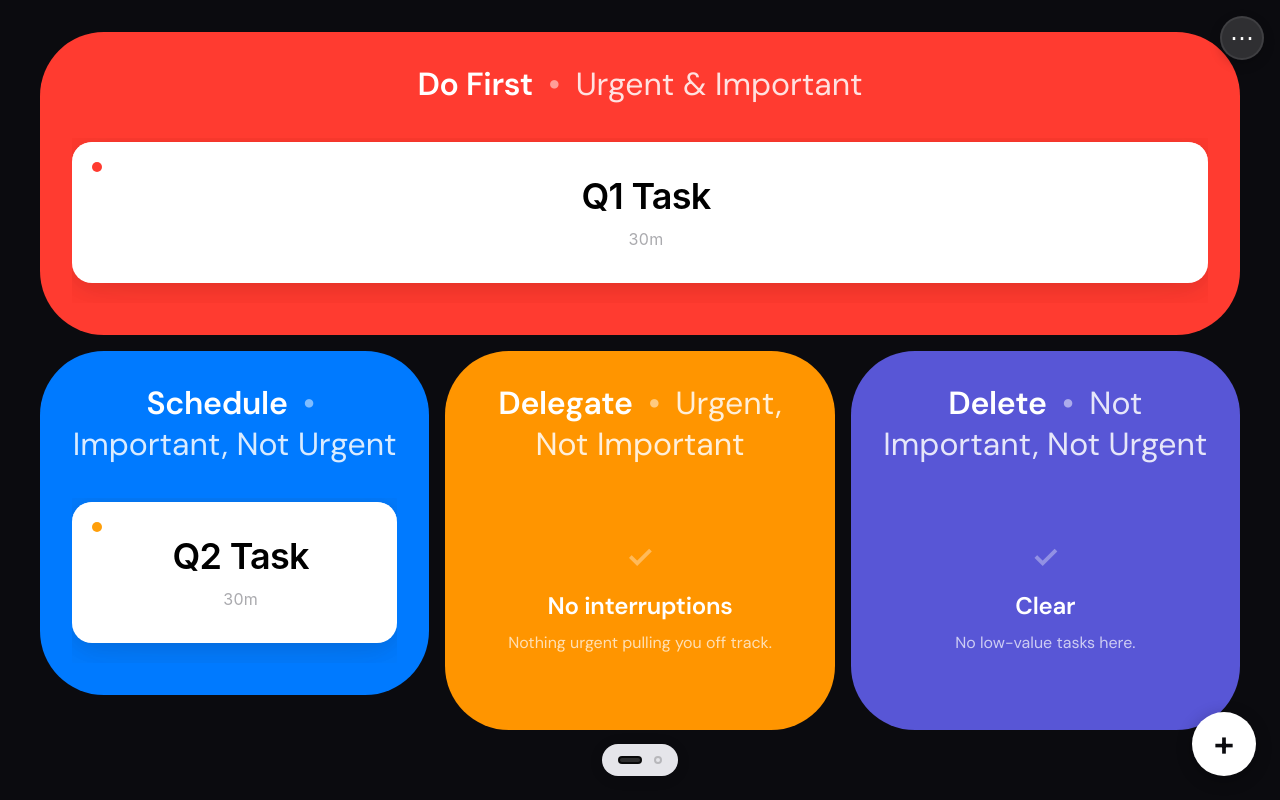
Scenario: Right Now View › displays quadrant indicator for each task
Click the button with test id "page-dot-rightNow": [658, 760] box [654, 756, 662, 764]
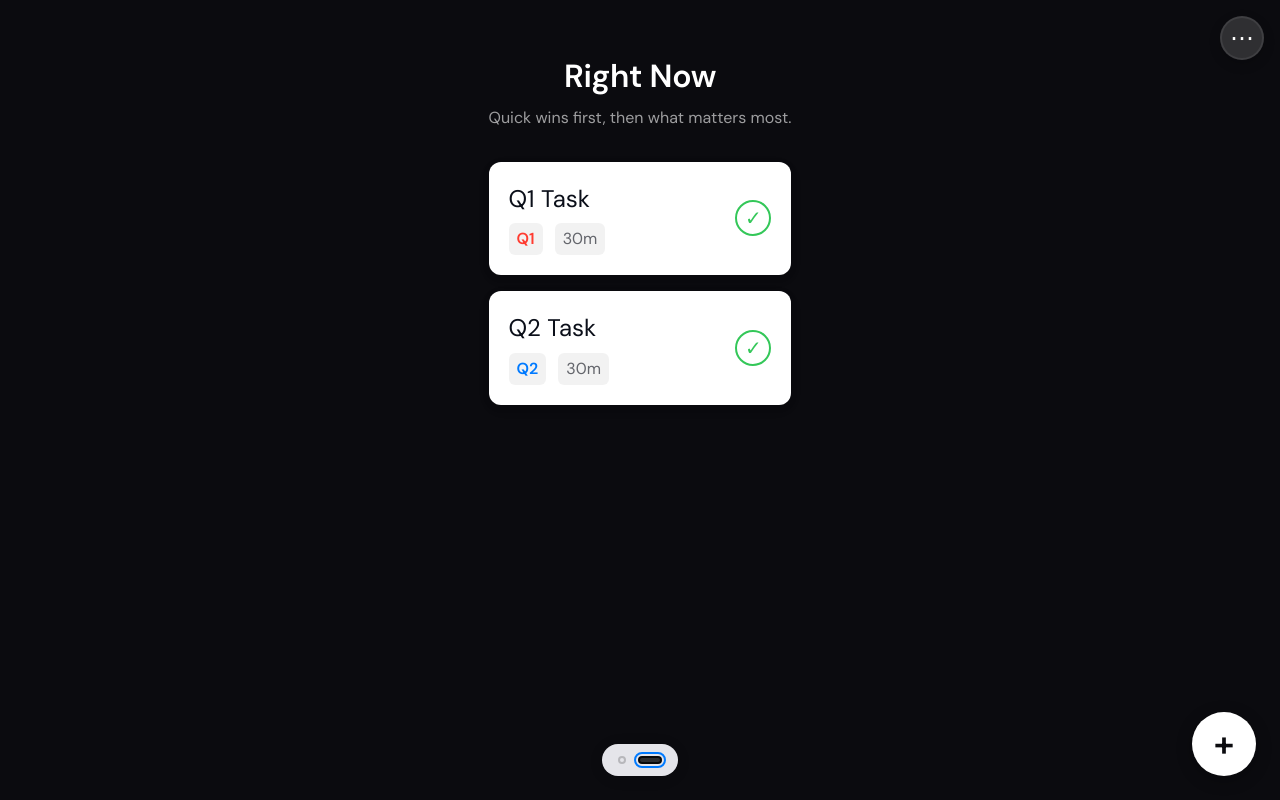
Check: the element with test id "right-now-view" is shown, box [464, 32, 815, 429]
Check: the text with test id "right-now-quadrant-1" reads "Q1", box [516, 228, 535, 249]
Check: the text with test id "right-now-quadrant-2" reads "Q2", box [516, 358, 538, 379]
